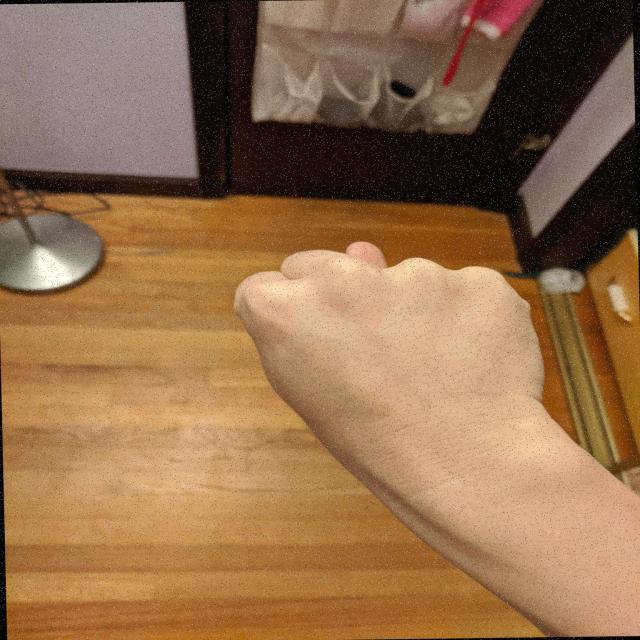N: (224, 232, 561, 463)
